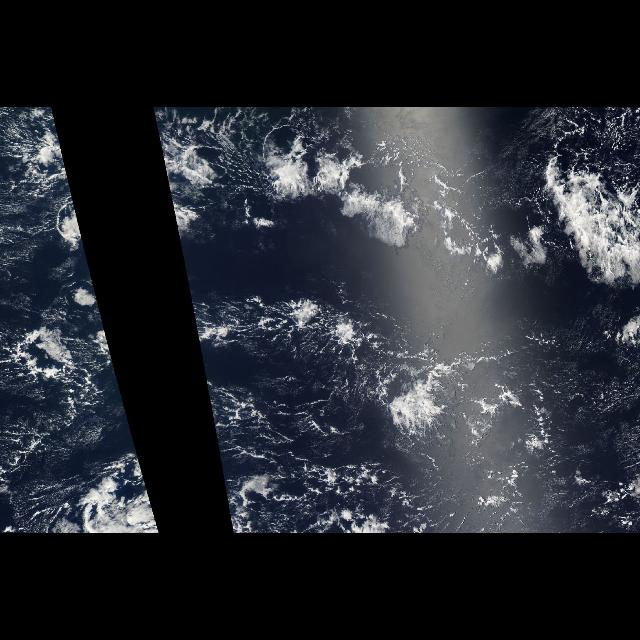Fish: (210, 289, 488, 451)
Gravel: (206, 376, 479, 532), (198, 292, 434, 372)
